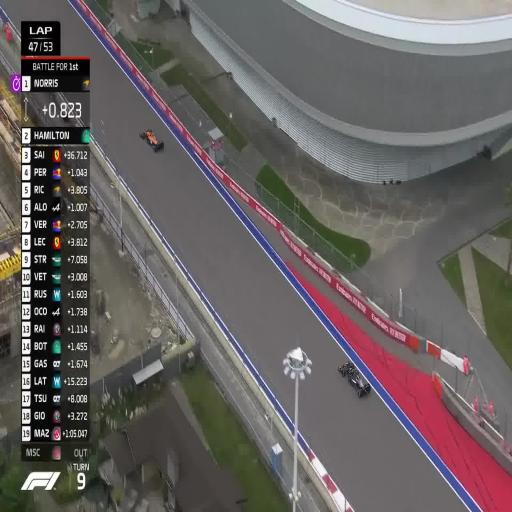f1_car: (338, 361, 370, 396), (139, 129, 163, 152)
